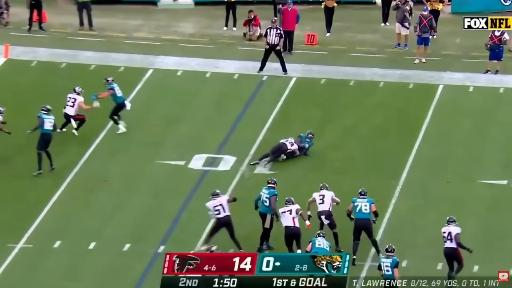Helmet: (385, 246, 397, 258), (266, 178, 278, 190), (208, 190, 221, 199), (447, 216, 457, 226), (320, 183, 331, 192), (358, 189, 368, 198), (306, 130, 314, 141), (285, 198, 296, 206), (74, 86, 83, 95), (316, 231, 326, 239), (41, 106, 50, 114), (106, 78, 114, 87), (0, 106, 5, 113)
Jersey: (256, 187, 277, 214), (206, 196, 230, 218), (378, 256, 399, 279), (279, 204, 299, 227), (352, 198, 374, 218), (313, 191, 335, 211), (442, 226, 461, 247), (65, 94, 83, 115), (108, 83, 125, 103), (38, 113, 54, 133), (311, 238, 331, 253), (280, 138, 298, 151), (299, 134, 313, 150), (0, 115, 2, 122)
Player: (347, 189, 380, 265), (307, 184, 343, 252), (202, 191, 242, 251), (91, 78, 130, 133), (27, 105, 56, 175), (442, 216, 472, 279), (255, 178, 279, 252), (57, 87, 92, 135), (279, 198, 310, 252), (250, 138, 299, 165), (378, 244, 399, 287), (282, 131, 314, 159), (306, 231, 331, 253), (0, 106, 11, 134), (206, 245, 218, 252)
